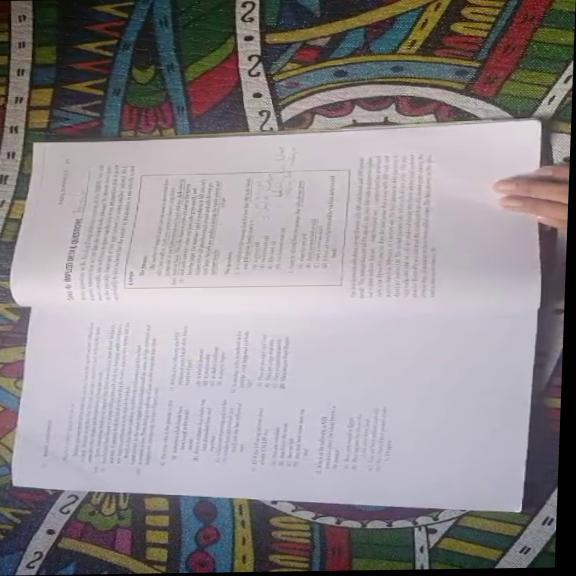Kertas: (14, 306, 536, 509), (14, 296, 539, 482), (12, 120, 540, 304)
